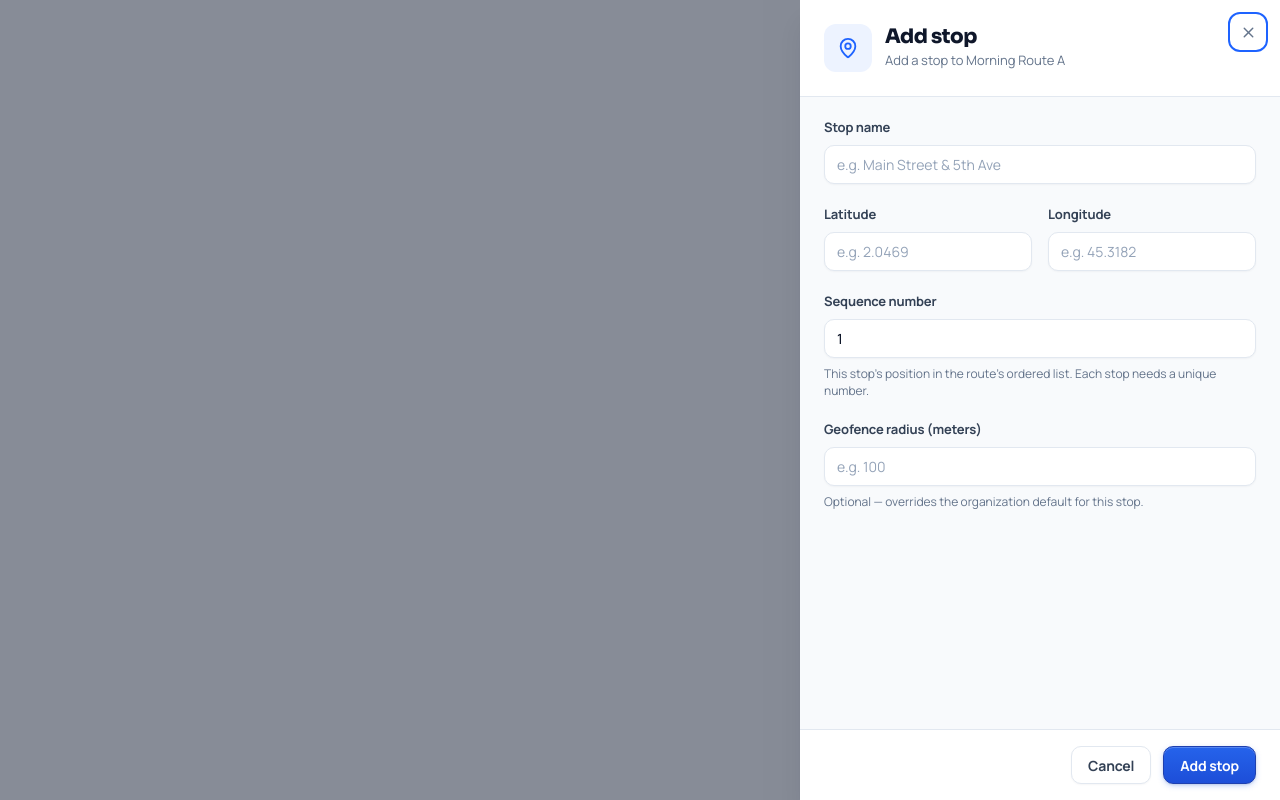
it: AddStopForm › rejects a non-positive sequence number
Replace the text in the field with placeholder "e.g. 1" with "0": (1040, 339) [824, 319, 1256, 358]
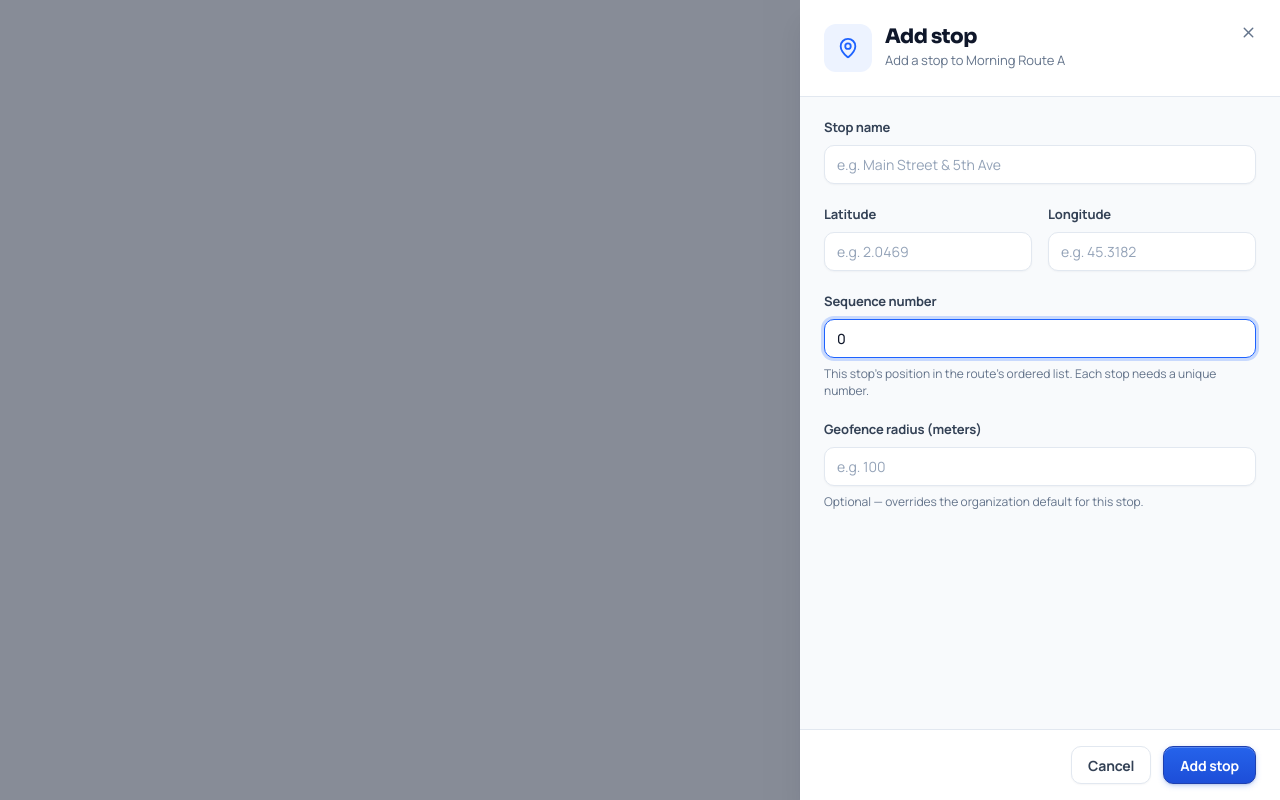
In the field with placeholder "e.g. Main Street & 5th Ave": (1040, 165) [824, 145, 1256, 184], type "Somewhere"
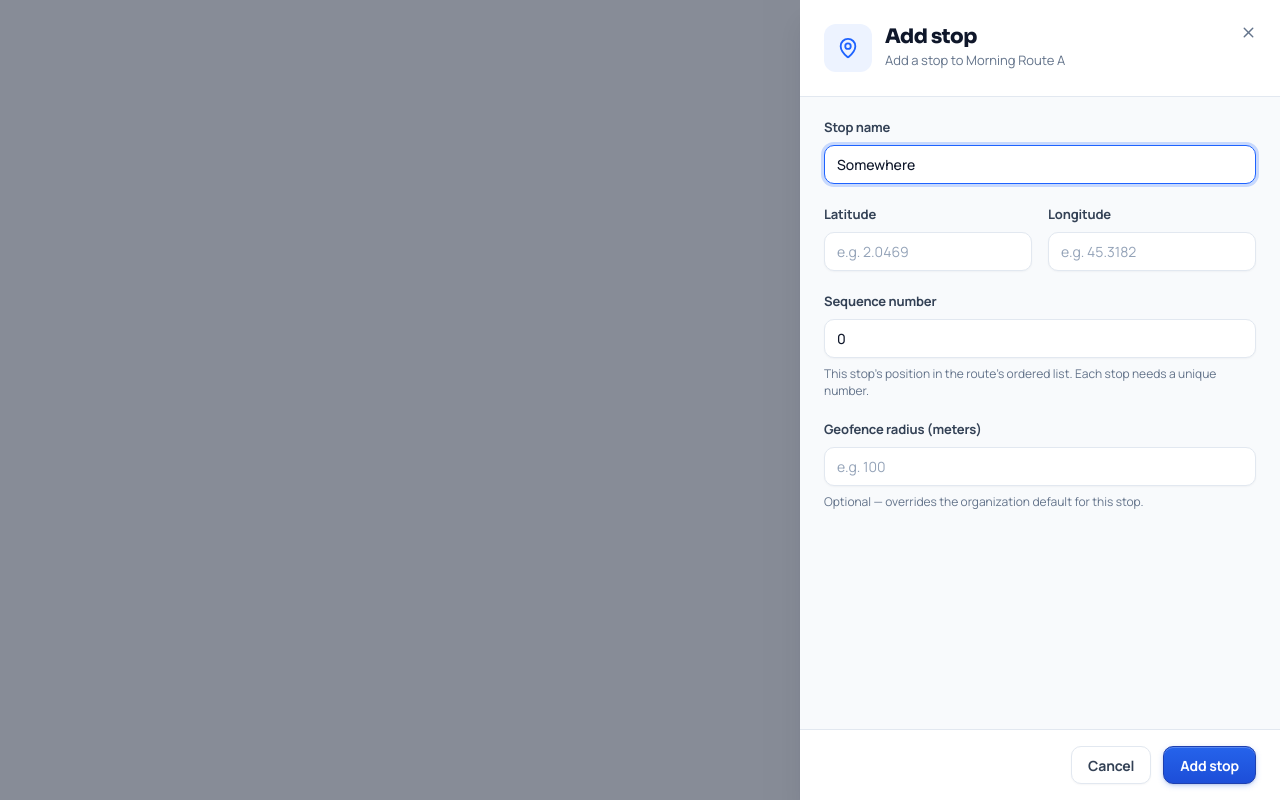
In the field with placeholder "e.g. 2.0469": (928, 252) [824, 232, 1032, 271], type "2.0469"
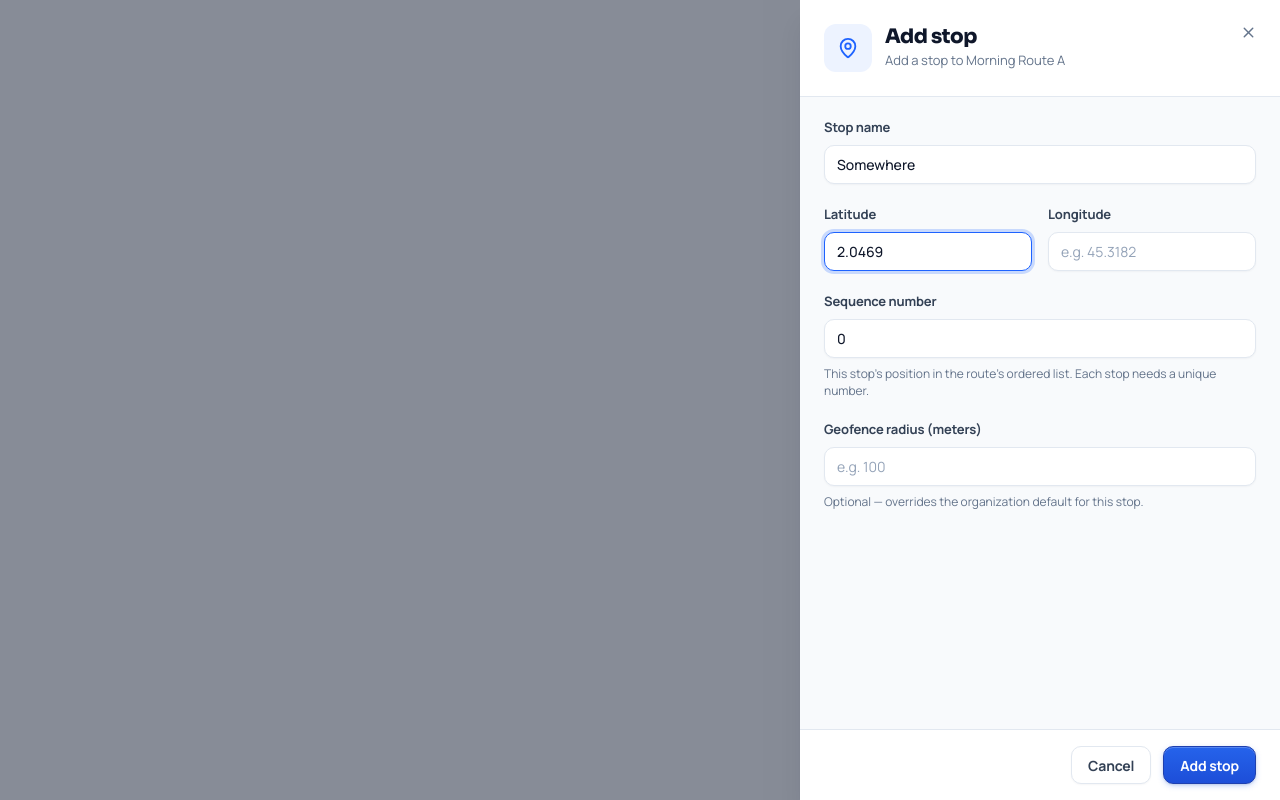
In the field with placeholder "e.g. 45.3182": (1152, 252) [1048, 232, 1256, 271], type "45.3182"
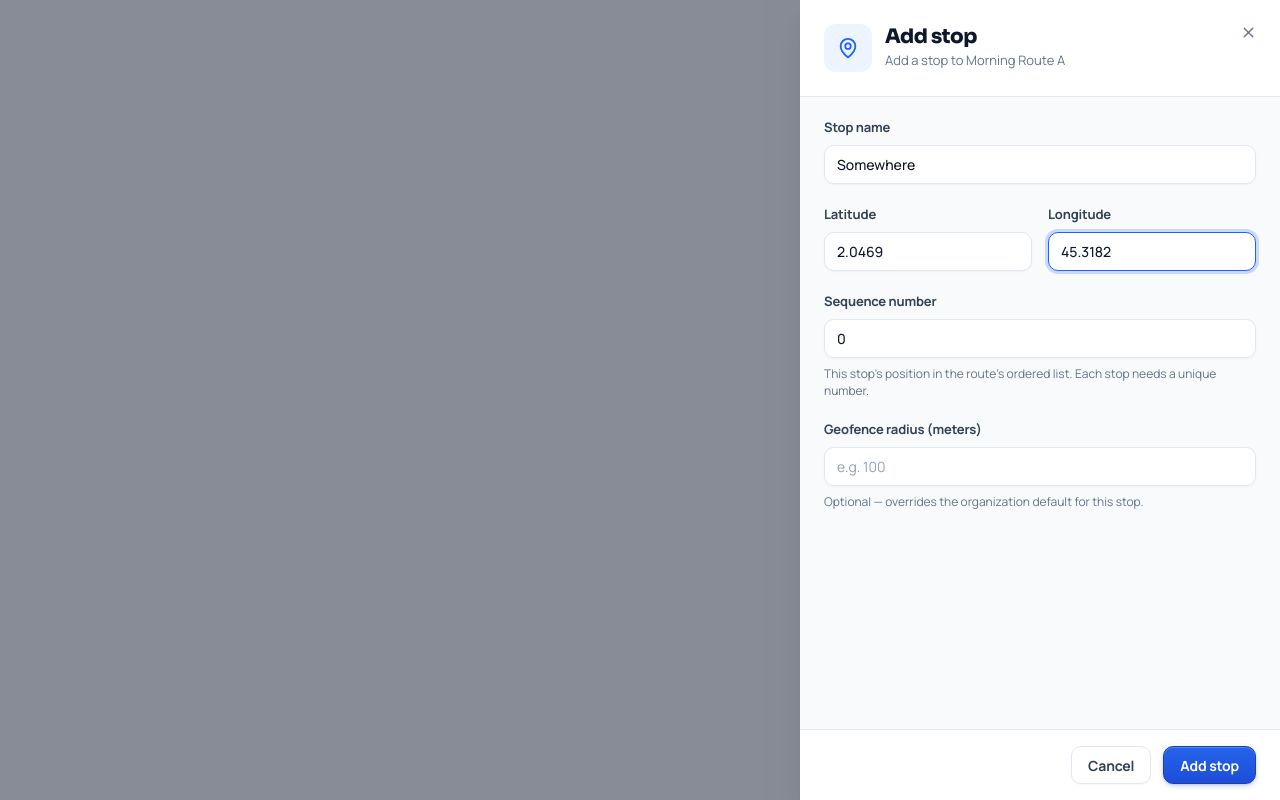
Click the button "Add stop": (1210, 765) [1163, 746, 1256, 784]
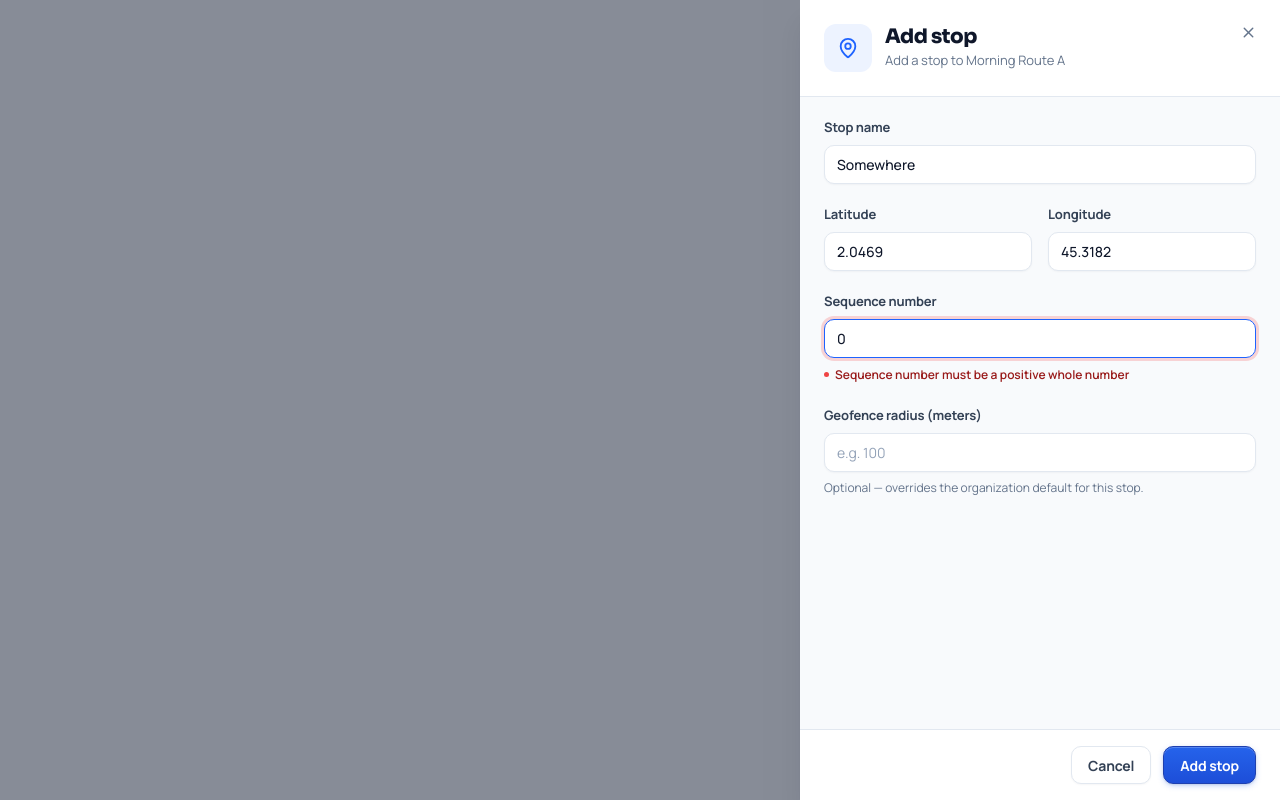
expect the text "Sequence number must be a positive whole number" is shown: met, box [835, 366, 1129, 383]
